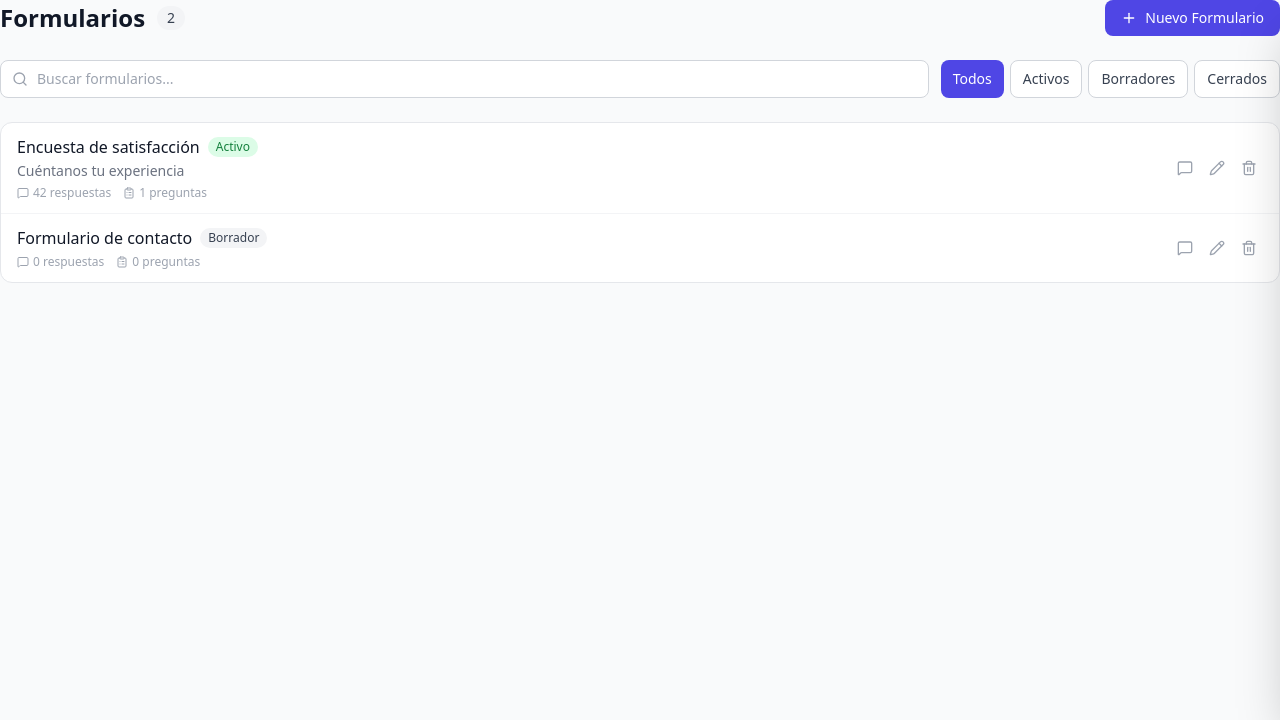
Test: FormsPage › abre modal de creación al hacer click en Nuevo Formulario
Click the button "Nuevo Formulario" at (1193, 18), box [1105,0,1279,36]
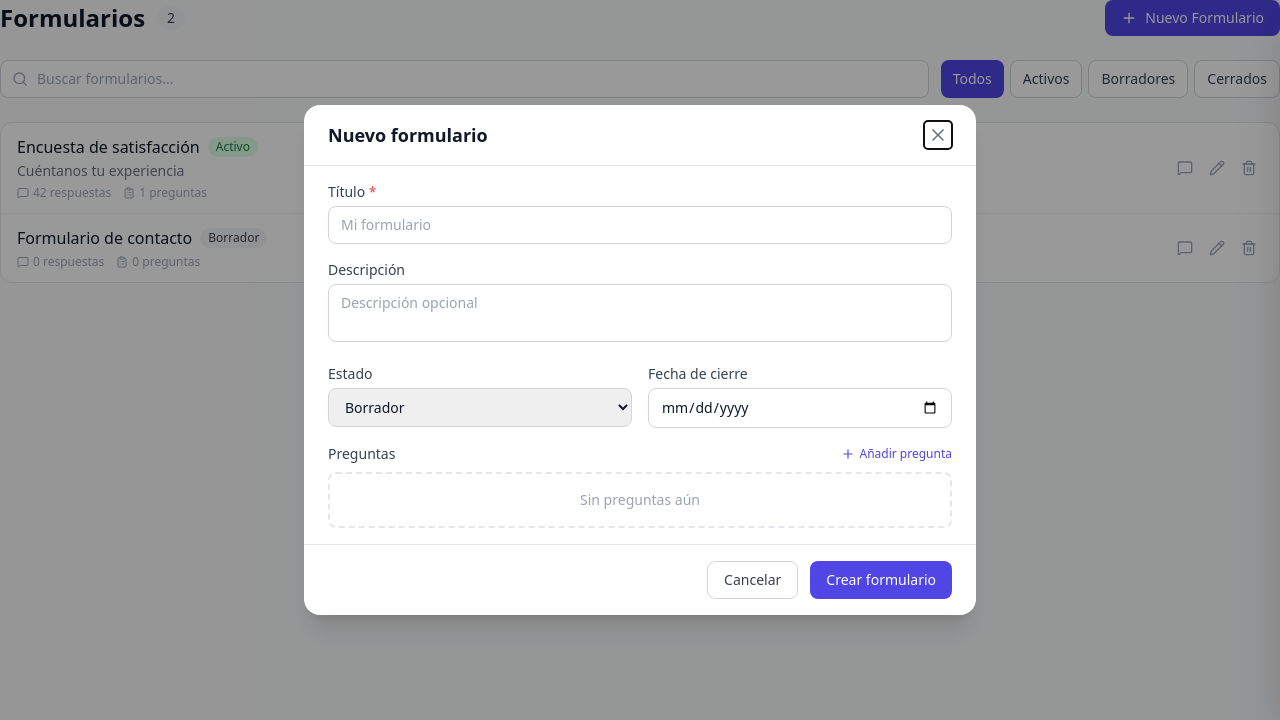
Result: the dialog is shown at [304,105,976,615]
Result: the heading "Nuevo formulario" is shown at [328,121,488,149]
